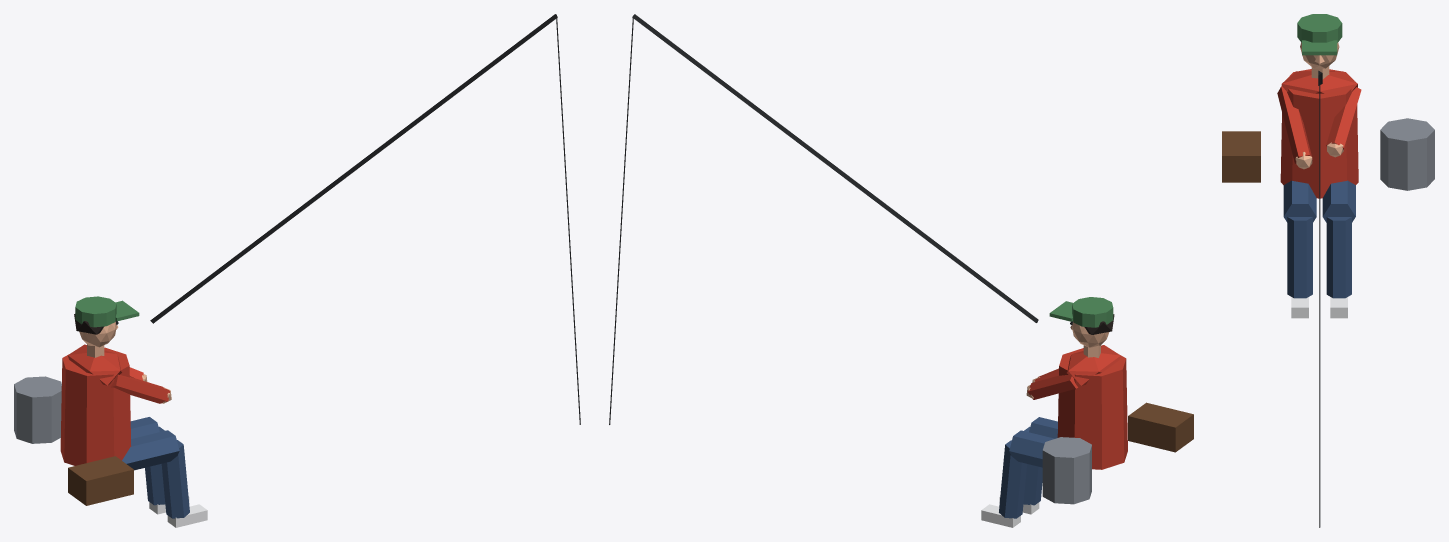
File: fiskare_brygga.glb
The picture shows the model from 3 angles, left to right: view 1: azimuth 30°, elevation 25°; view 2: azimuth 150°, elevation 25°; view 3: azimuth 270°, elevation 25°; orthographic projection. The views are drawn at different scales.
Visible parts, largest first — view 1: fiskare_brygga; view 2: fiskare_brygga; view 3: fiskare_brygga.
Boxes of the visible parts, x1,y1,x2,y2 form: fiskare_brygga: [14, 14, 580, 527]; fiskare_brygga: [609, 14, 1193, 527]; fiskare_brygga: [1222, 14, 1434, 527].
Size of the model in its own units: 3.4 by 2.51 by 1.09.
